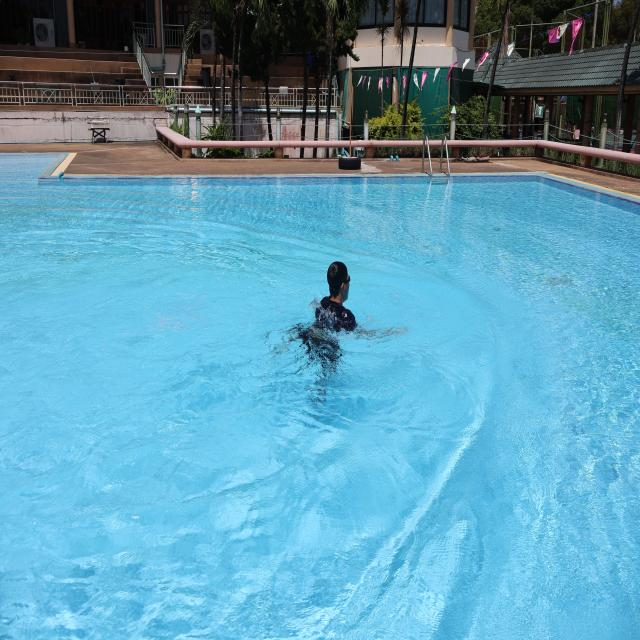Swimming: (290, 260, 408, 396)
